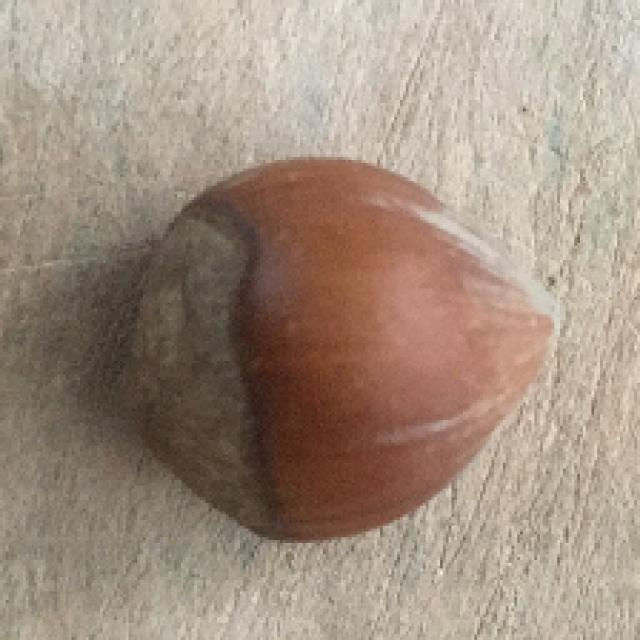QualityHazelnut: (124, 158, 566, 547)
